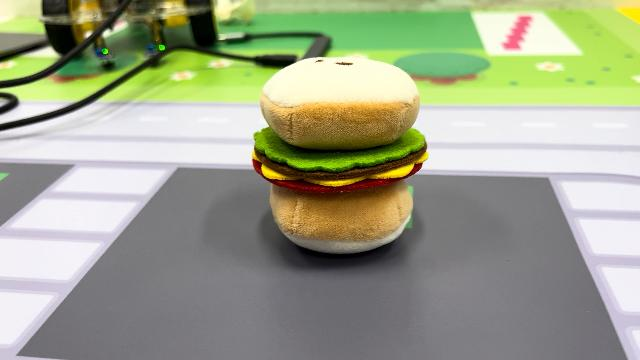sandwich: (250, 52, 430, 255)
